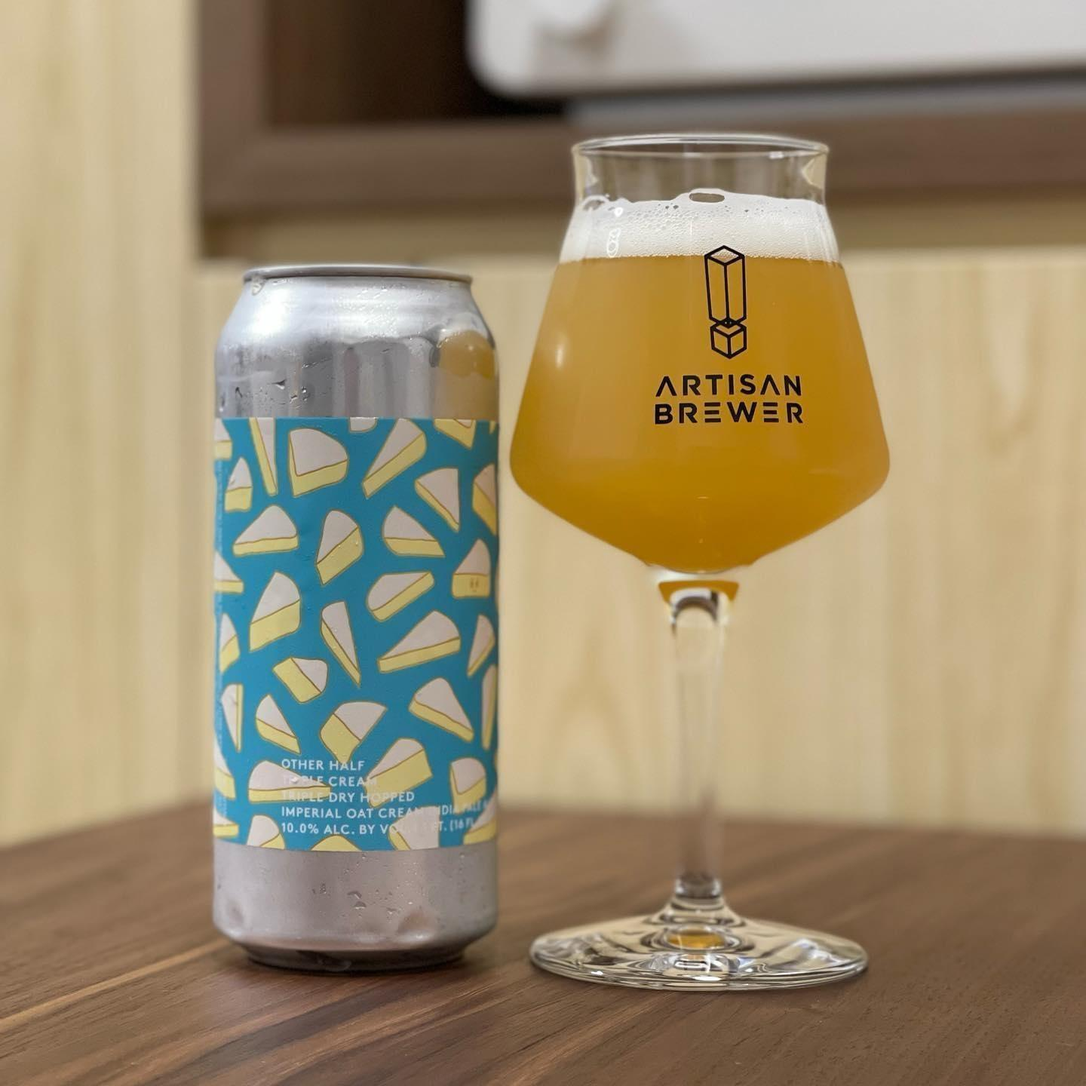glass-wine: (517, 121, 905, 1002)
tin can: (205, 250, 513, 974)
